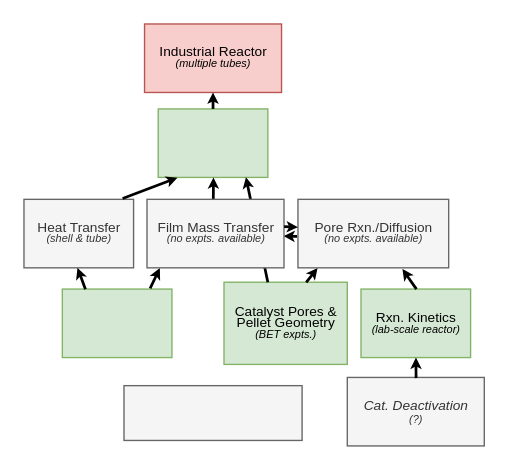
The diagram is 508 pixels wide and 470 high, and some of its shapes have lost their labels. Here are the shapes that lost their labels. From the top down, the centre of each, then its label:
[212,142]: Pilot Reactor (single tube)
[116,323]: Turbulence (flow w/ catalyst)
[212,412]: EOS (affects all)
